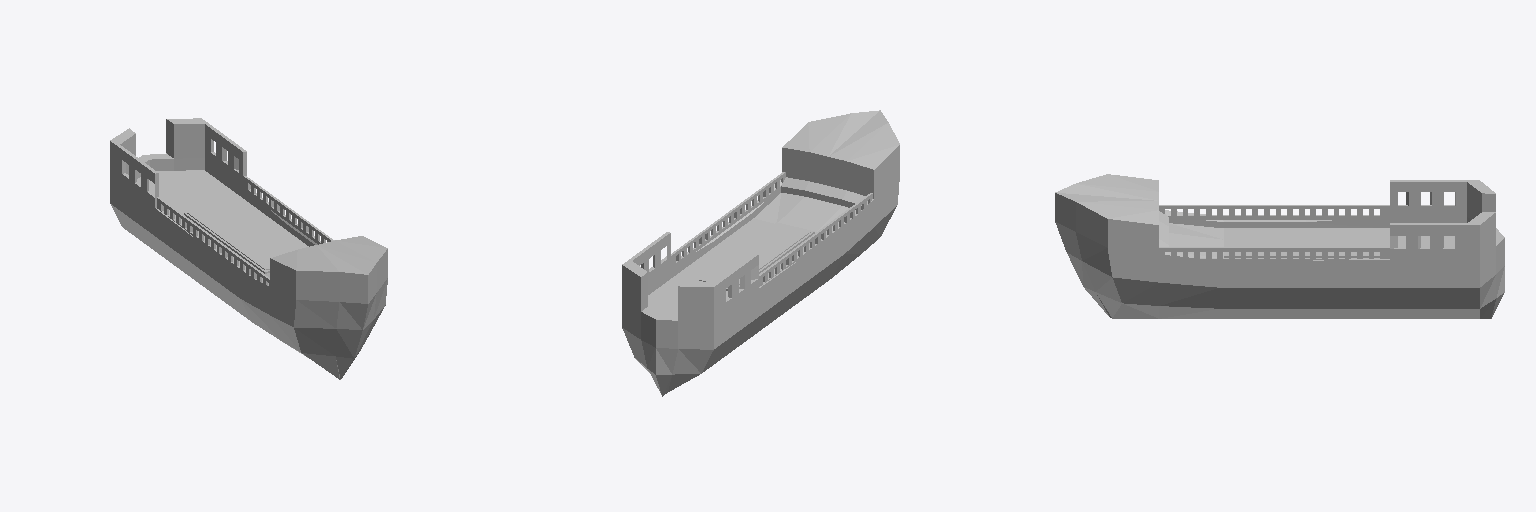
Rendered from Ship.obj.
3 renders of one model, left to right at view 1: azimuth 30°, elevation 25°; view 2: azimuth 150°, elevation 25°; view 3: azimuth 270°, elevation 25°, orthographic.
Visible parts, largest first — view 1: Cube; view 2: Cube; view 3: Cube.
Boxes of the visible parts, <box> form: Cube: <box>110,118,387,379</box>; Cube: <box>622,110,899,396</box>; Cube: <box>1055,174,1504,318</box>.
Size of the model in its own units: 2.66 by 3.51 by 11.3.